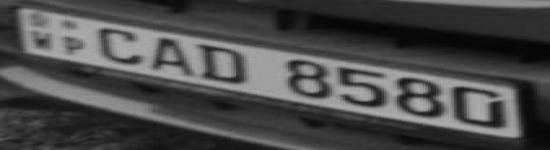0: (452, 84, 512, 130)
5: (336, 65, 392, 109)
8: (392, 74, 450, 119), (284, 58, 335, 99)
A: (146, 35, 197, 79)
C: (90, 27, 146, 68)
D: (191, 42, 252, 86)
P: (58, 34, 90, 59)
W: (28, 27, 56, 53)
